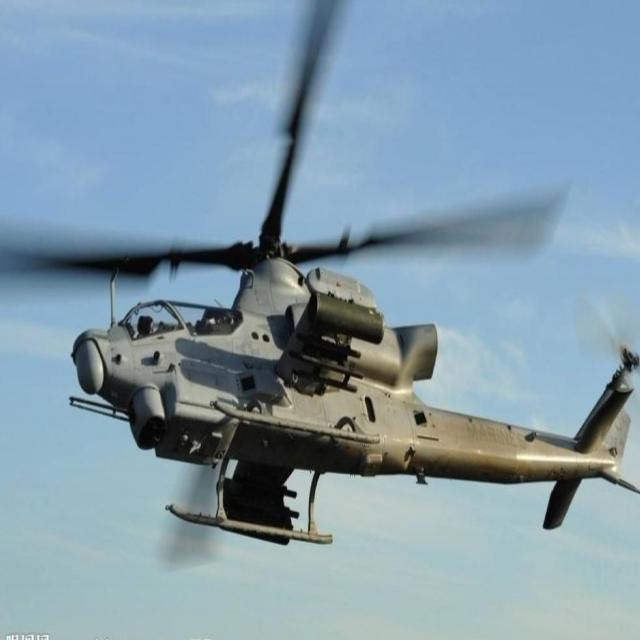MIL_HELO: (34, 52, 640, 580)
